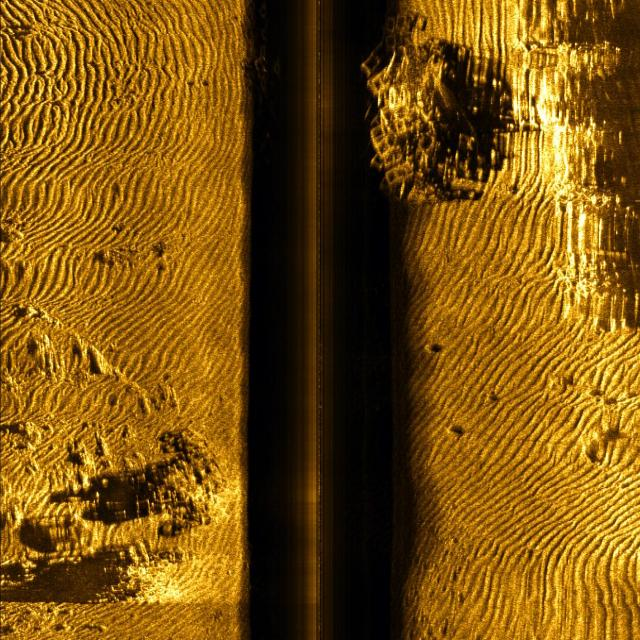artificial reef: (361, 11, 498, 203), (247, 9, 287, 114)
